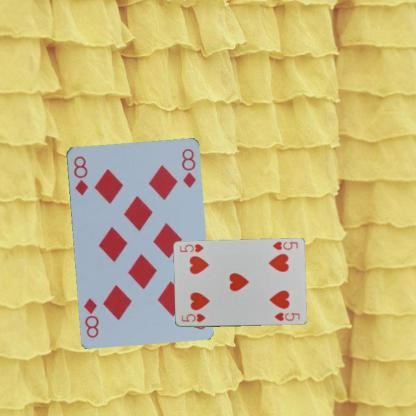5h: (179, 311, 206, 323), (270, 240, 299, 251)
8d: (70, 153, 89, 197)
